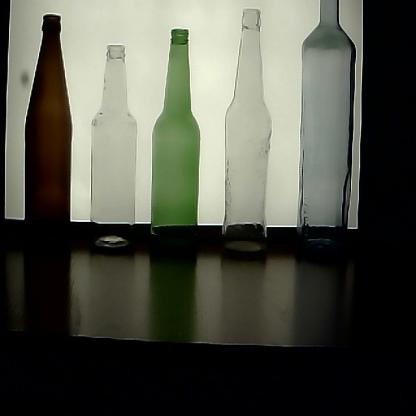Can: (294, 1, 360, 266), (217, 6, 276, 267), (21, 12, 77, 260), (147, 28, 203, 268), (87, 42, 141, 258)
